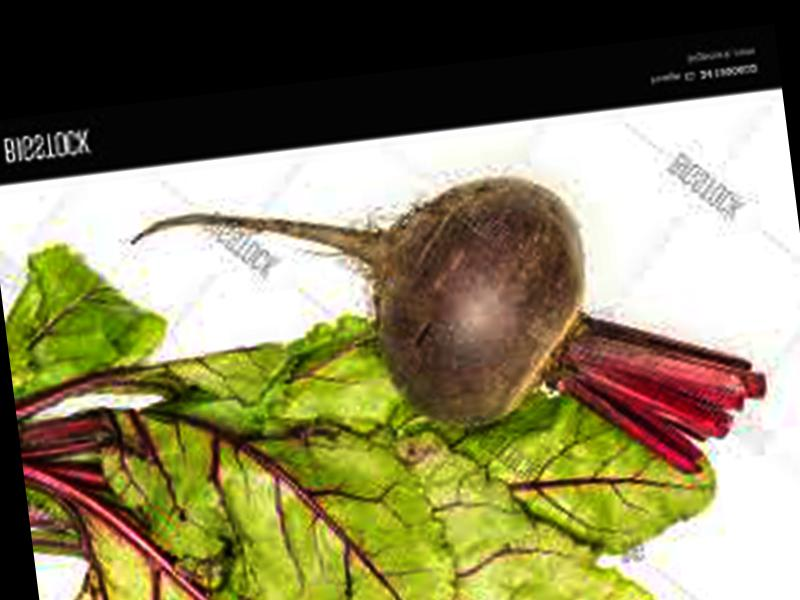Beet: (129, 146, 776, 538)
